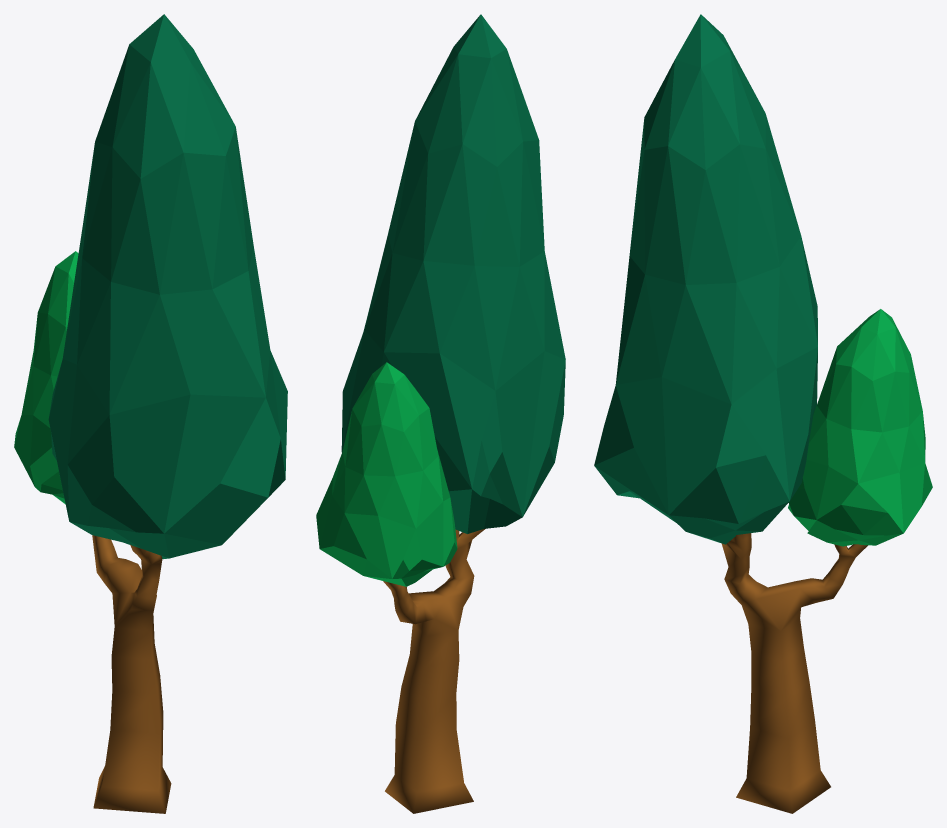
File: RW_tree _2.fbx
The picture shows the model from 3 angles, left to right: view 1: azimuth 30°, elevation 25°; view 2: azimuth 150°, elevation 25°; view 3: azimuth 270°, elevation 25°; orthographic projection. The views are drawn at different scales.
Visible parts, largest first — view 1: Cube.104; view 2: Cube.104; view 3: Cube.104.
Part boxes in pixels (left/top/right/bottom): Cube.104: left=14, top=14, right=287, bottom=813; Cube.104: left=316, top=14, right=565, bottom=813; Cube.104: left=594, top=14, right=932, bottom=813.
Bounding box in the file's own units: 5.08 × 18.3 × 7.26.
